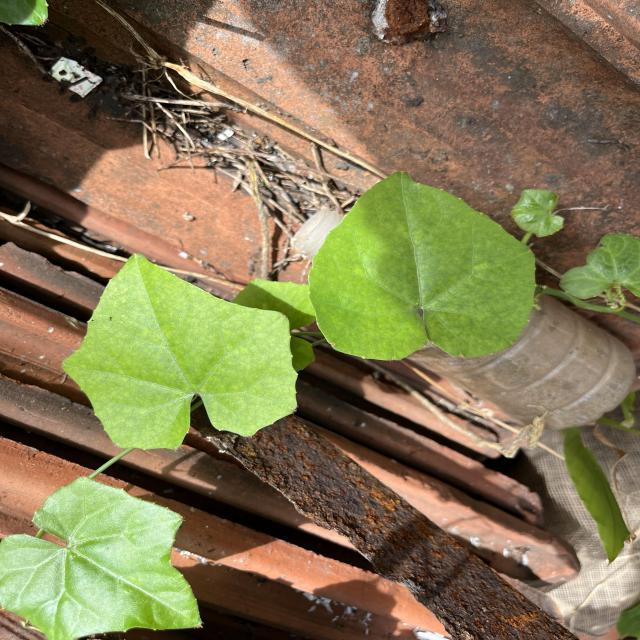Coccinia grandis: (60, 251, 301, 452), (306, 168, 540, 362)
